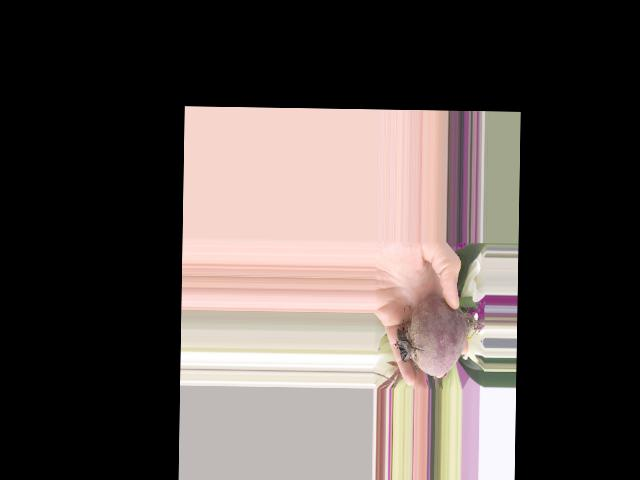beet: (392, 296, 485, 377)
